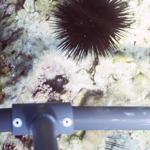dead: (1, 6, 146, 104)
